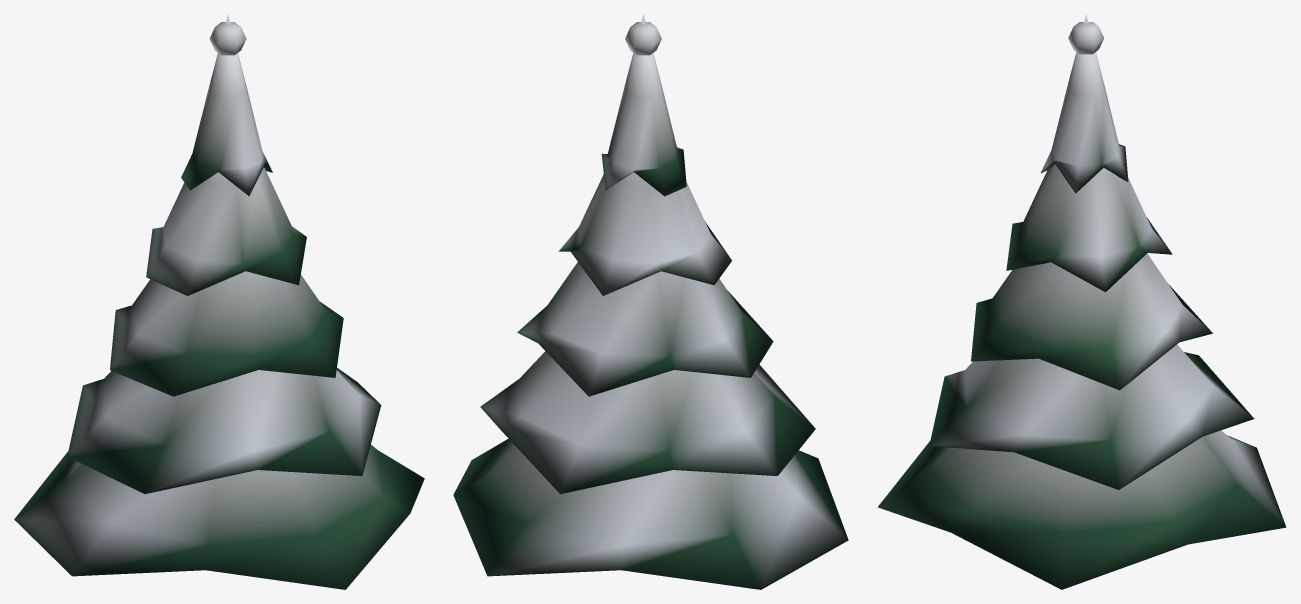
Rendered from prop.glacier_pine.glb.
3 renders of one model, left to right at view 1: azimuth 30°, elevation 25°; view 2: azimuth 150°, elevation 25°; view 3: azimuth 270°, elevation 25°, orthographic. The views are drawn at different scales.
Parts seen in each view (by area): view 1: glacier_pine; view 2: glacier_pine; view 3: glacier_pine.
Boxes of the visible parts, box(x1,y1,x2,y2) form: glacier_pine: box(14, 14, 424, 589); glacier_pine: box(453, 14, 848, 589); glacier_pine: box(878, 14, 1286, 589).
Size of the model in its own units: 6.37 by 8.97 by 6.34.
